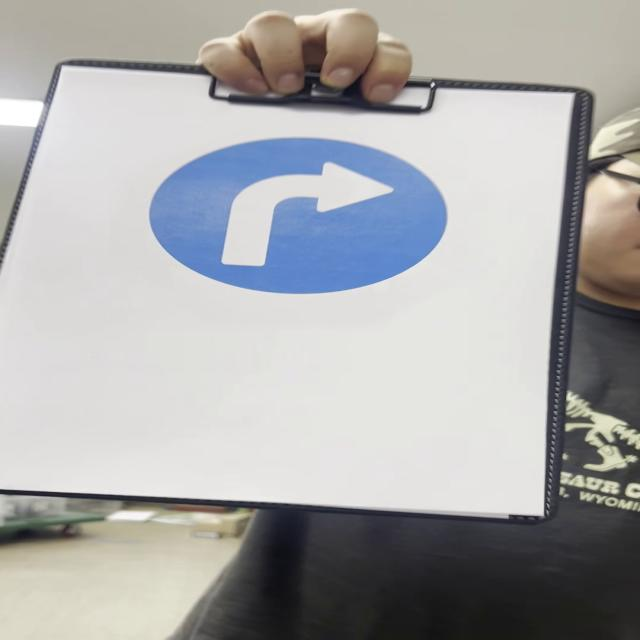right: (146, 133, 442, 296)
